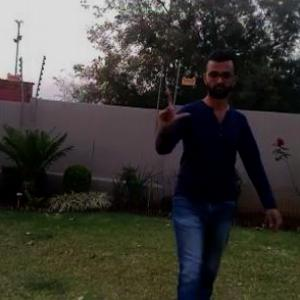land_hand: (157, 86, 194, 126)
